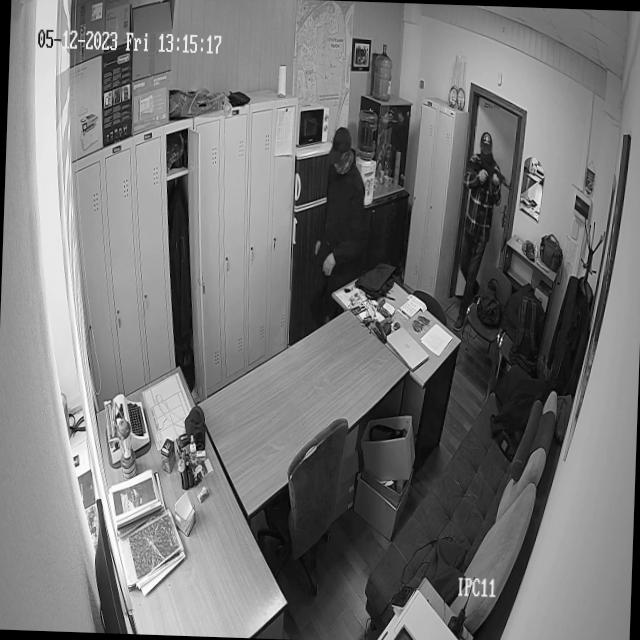gun: (474, 155, 515, 195)
person: (310, 129, 367, 315)
person with a gun: (450, 132, 516, 331)
